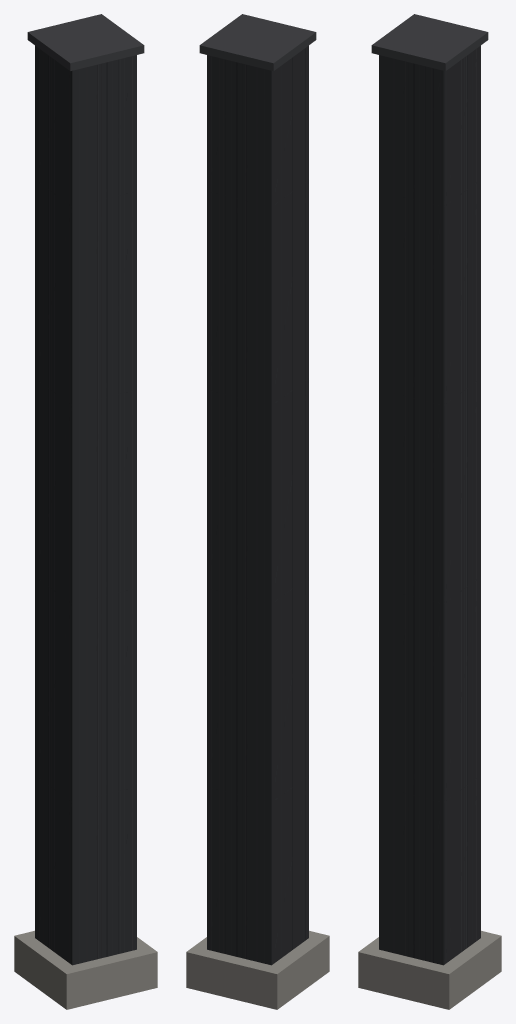
Rendered from MinidoracatKnoxPass_gatepost_C.glb.
The picture shows the model from 3 angles, left to right: view 1: azimuth 30°, elevation 25°; view 2: azimuth 150°, elevation 25°; view 3: azimuth 330°, elevation 25°; orthographic projection.
Visible parts, largest first — view 1: MinidoracatKnoxPass_gatepost_C; view 2: MinidoracatKnoxPass_gatepost_C; view 3: MinidoracatKnoxPass_gatepost_C.
Boxes of the visible parts, x1=… form: MinidoracatKnoxPass_gatepost_C: x1=14, y1=14, x2=157, y2=1009; MinidoracatKnoxPass_gatepost_C: x1=186, y1=14, x2=329, y2=1009; MinidoracatKnoxPass_gatepost_C: x1=358, y1=14, x2=501, y2=1009.
Size of the model in its own units: 0.48 by 4.74 by 0.48.
Materials: 1 (1 with a texture image).
